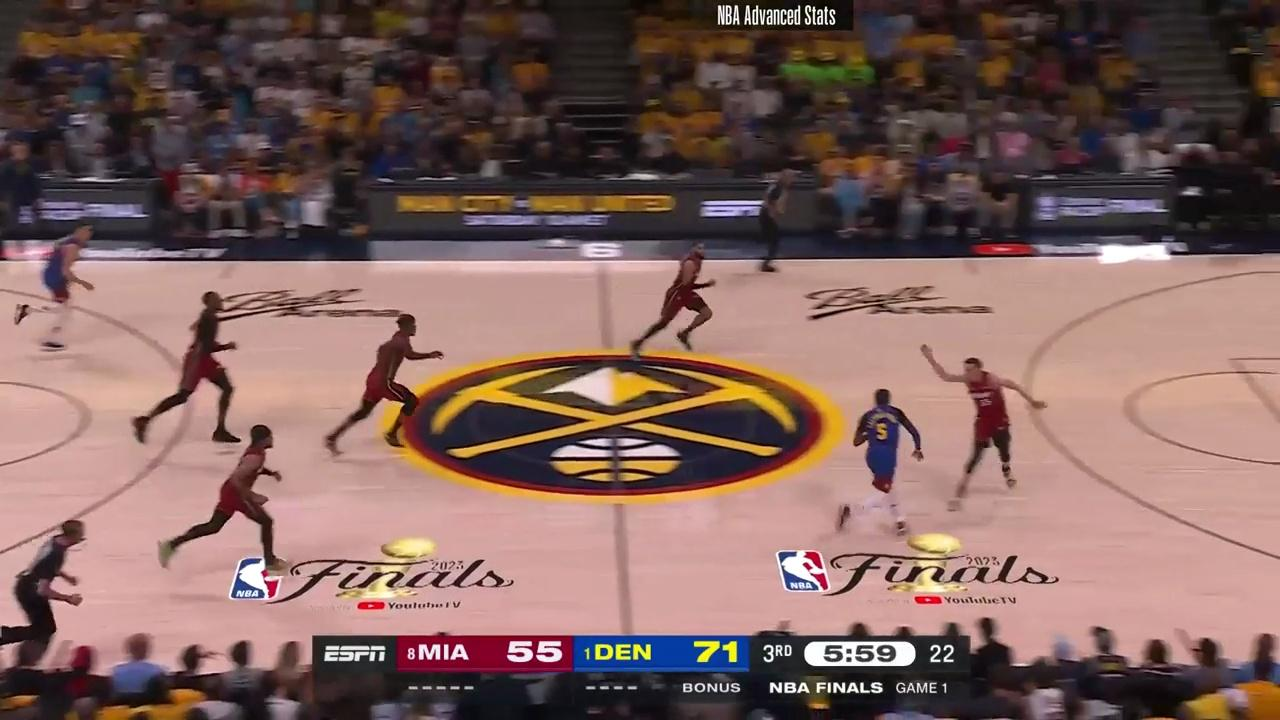Person: (167, 420, 298, 589), (324, 305, 452, 461), (137, 285, 251, 448), (943, 351, 1049, 511), (831, 387, 926, 542), (12, 218, 100, 354), (626, 238, 717, 357)
Referee: (8, 518, 88, 654), (741, 164, 797, 280)
